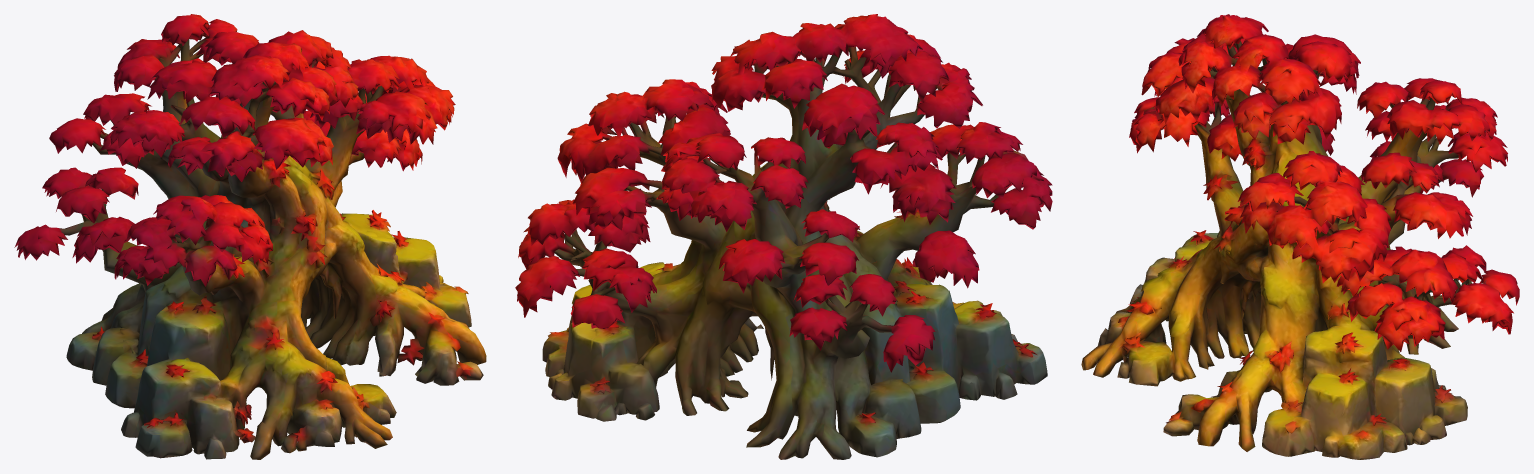
File: stylized tree 3d model.glb
3 views of the same model, side by side, from view 1: azimuth 30°, elevation 25°; view 2: azimuth 150°, elevation 25°; view 3: azimuth 270°, elevation 25° (orthographic). The views are drawn at different scales.
Parts seen in each view (by area): view 1: tripo_node_f5d4696d-a633-4f28-8361-61014fef7288; view 2: tripo_node_f5d4696d-a633-4f28-8361-61014fef7288; view 3: tripo_node_f5d4696d-a633-4f28-8361-61014fef7288.
Boxes of the visible parts, x1,y1,x2,y2 form: tripo_node_f5d4696d-a633-4f28-8361-61014fef7288: (14, 14, 486, 459); tripo_node_f5d4696d-a633-4f28-8361-61014fef7288: (515, 14, 1052, 459); tripo_node_f5d4696d-a633-4f28-8361-61014fef7288: (1081, 14, 1519, 459).
Bounding box in the file's own units: 1 × 0.8145 × 0.9776.
1 material, 1 textured.
